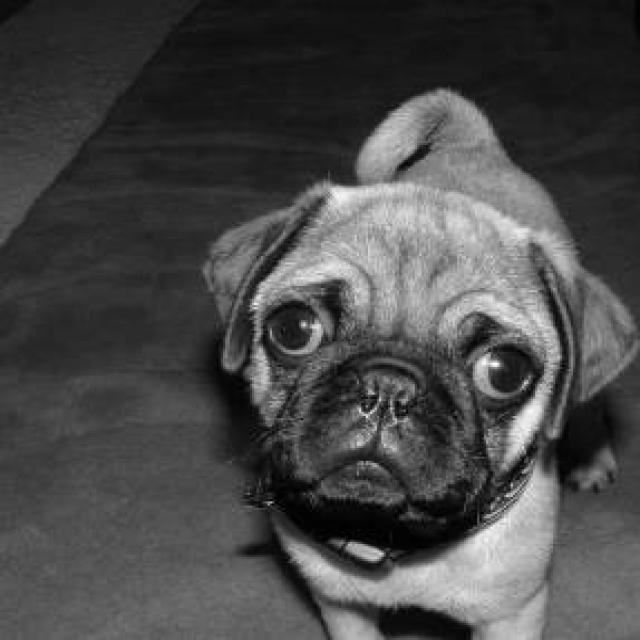dog-pug: (201, 79, 636, 636)
